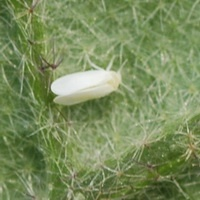insect: (51, 69, 120, 104)
